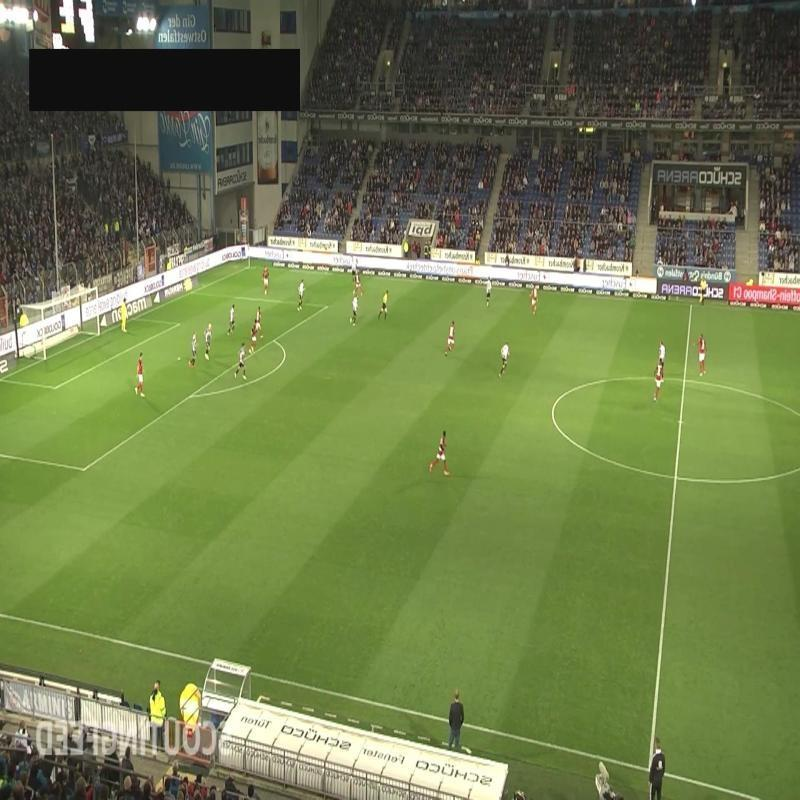1: (243, 261, 257, 275)
10: (268, 332, 282, 346)
11: (186, 387, 200, 401)
12: (77, 460, 91, 474)
13: (684, 298, 698, 312)
14: (678, 372, 692, 386)
15: (664, 468, 686, 489)
2: (184, 284, 198, 298)
3: (126, 312, 140, 326)
7: (172, 316, 186, 330)
8: (49, 380, 62, 394)
9: (320, 298, 334, 312)
c: (547, 400, 561, 414)
